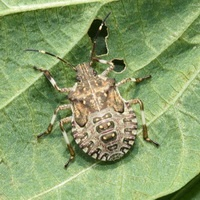insect: (24, 13, 158, 167)
